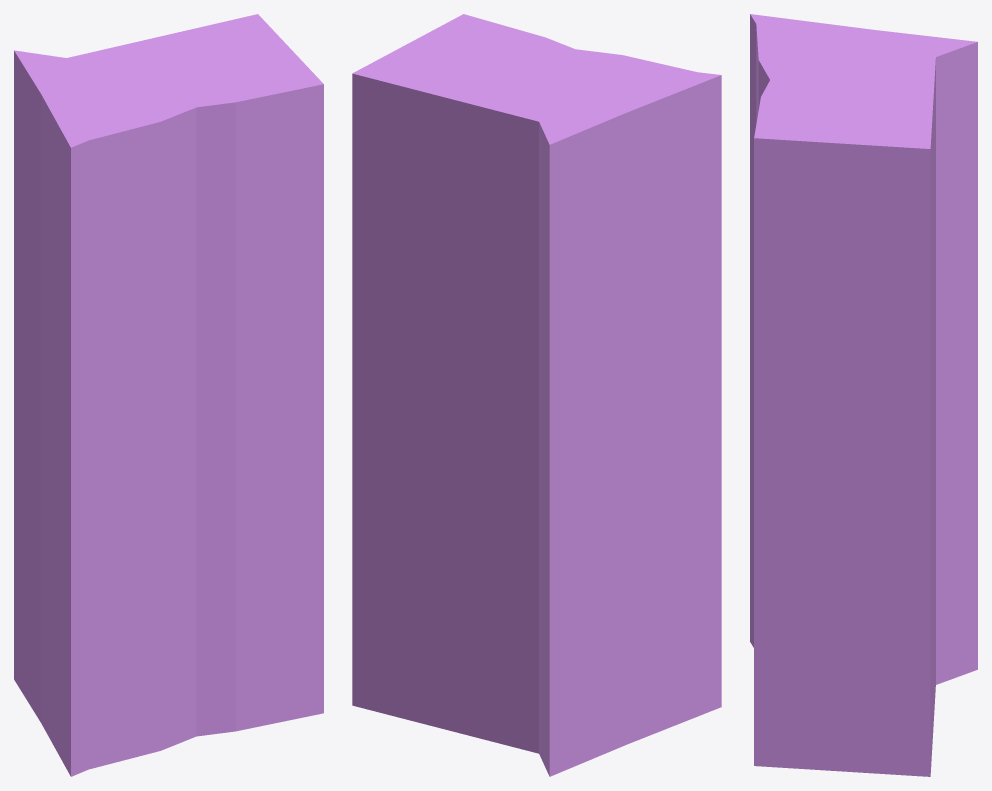
File: avon by the sea.glb
3 views of the same model, side by side, from view 1: azimuth 30°, elevation 25°; view 2: azimuth 150°, elevation 25°; view 3: azimuth 270°, elevation 25° (orthographic).
Parts seen in each view (by area): view 1: Plane.021; view 2: Plane.021; view 3: Plane.021.
Part boxes in pixels (box(x1,y1,x2,y2)): Plane.021: box(14, 14, 323, 776); Plane.021: box(352, 14, 721, 776); Plane.021: box(750, 14, 977, 776).
Size of the model in its own units: 0.178 by 0.3856 by 0.1268.
